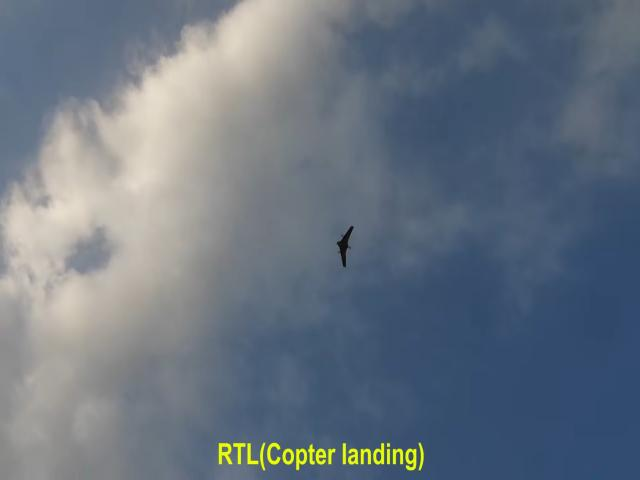plane: (336, 226, 352, 268)
